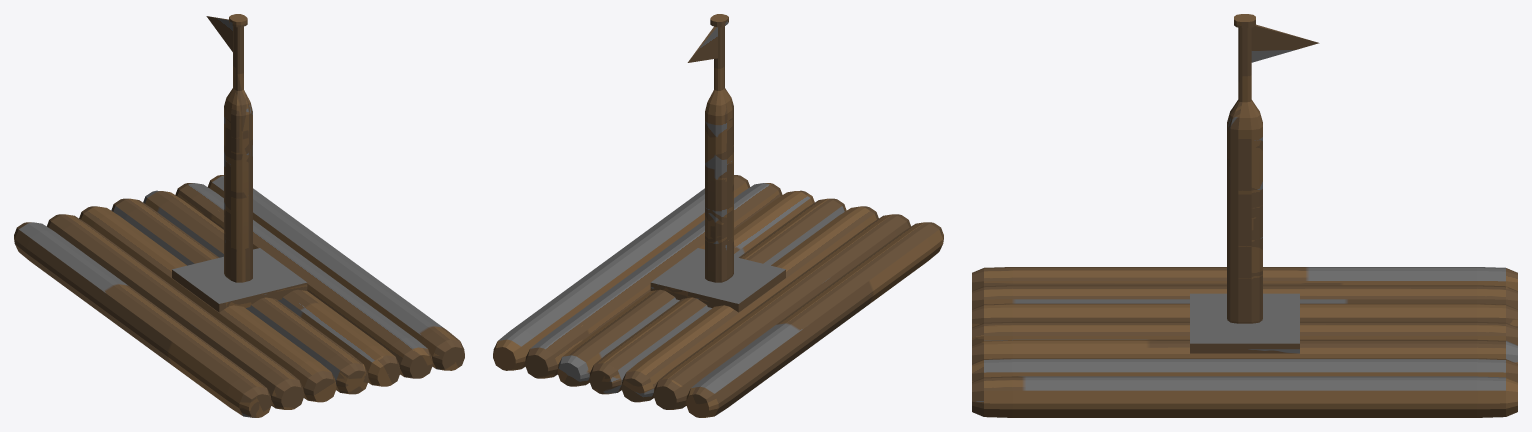
File: Raft1.fbx
3 views of the same model, side by side, from view 1: azimuth 30°, elevation 25°; view 2: azimuth 150°, elevation 25°; view 3: azimuth 270°, elevation 25° (orthographic). The views are drawn at different scales.
Parts seen in each view (by area): view 1: Raft1; view 2: Raft1; view 3: Raft1.
Boxes of the visible parts, box(x1,y1,x2,y2) form: Raft1: box(14, 14, 464, 417); Raft1: box(493, 14, 943, 417); Raft1: box(972, 14, 1517, 417).
Size of the model in its own units: 1375 by 1711 by 2474.
